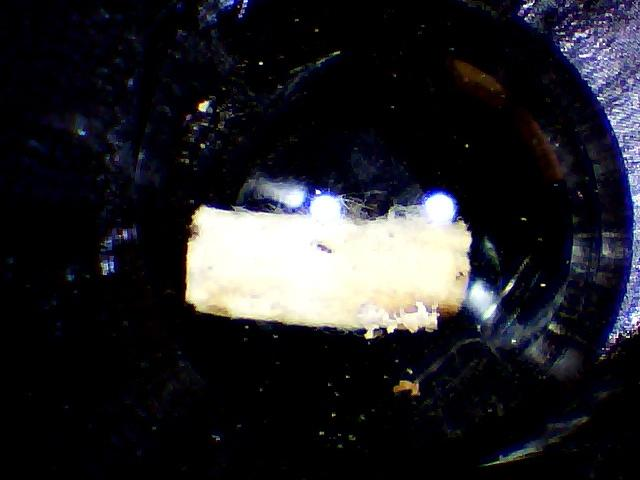megot: (177, 193, 476, 343)
